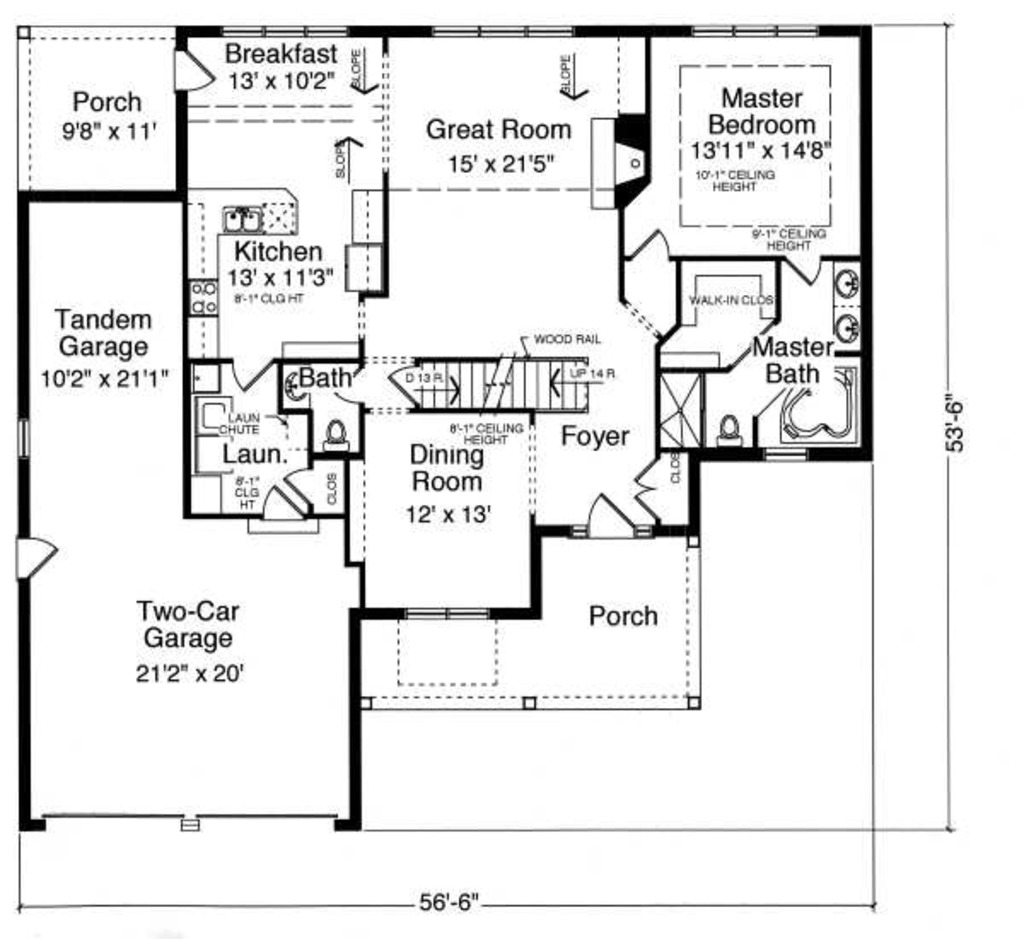door: (585, 490, 634, 542), (173, 46, 218, 99), (258, 487, 304, 534), (17, 535, 59, 585), (780, 249, 824, 292), (231, 354, 278, 394), (629, 229, 669, 263)
large_sink: (710, 408, 749, 449), (317, 416, 353, 455)
small_sink: (834, 260, 861, 354)
stairs: (413, 358, 592, 416)
tub: (768, 371, 863, 451)
twin_sink: (219, 202, 271, 239)
windows: (211, 14, 350, 41), (680, 22, 822, 44), (423, 22, 579, 39), (402, 604, 500, 625), (13, 417, 41, 464)
